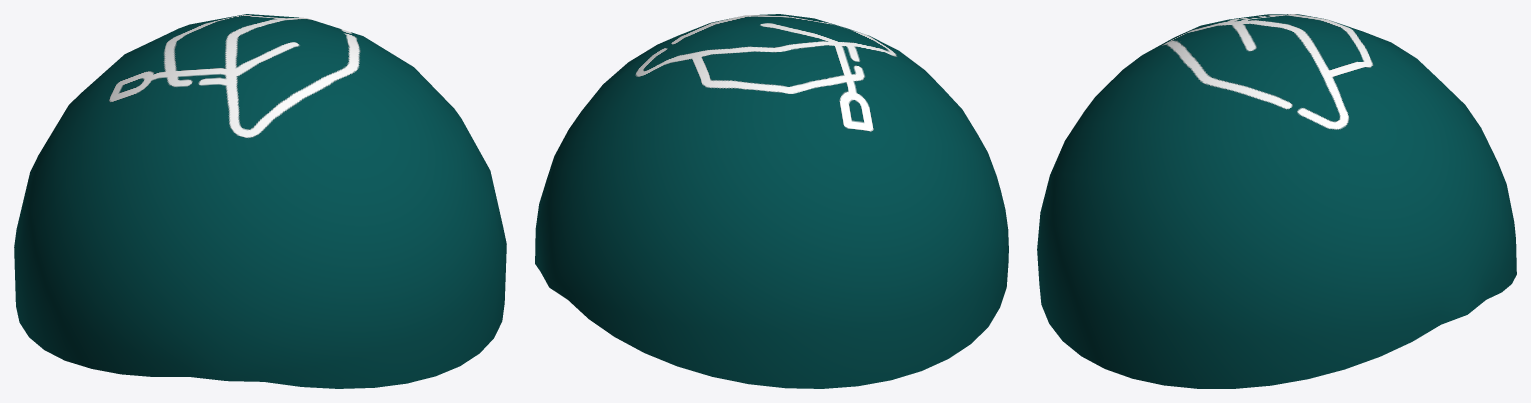
The model's file is Tutorials_Button_Tutorials (2).fbx.
The picture shows the model from 3 angles, left to right: view 1: azimuth 30°, elevation 25°; view 2: azimuth 150°, elevation 25°; view 3: azimuth 270°, elevation 25°; orthographic projection. The views are drawn at different scales.
Parts seen in each view (by area): view 1: pSphere55; view 2: pSphere55; view 3: pSphere55.
Boxes of the visible parts, x1=… form: pSphere55: x1=14, y1=14, x2=506, y2=388; pSphere55: x1=535, y1=14, x2=1008, y2=388; pSphere55: x1=1037, y1=14, x2=1516, y2=388.
Size of the model in its own units: 5.55 by 3.36 by 5.56.
Materials: 1 (1 with a texture image).
